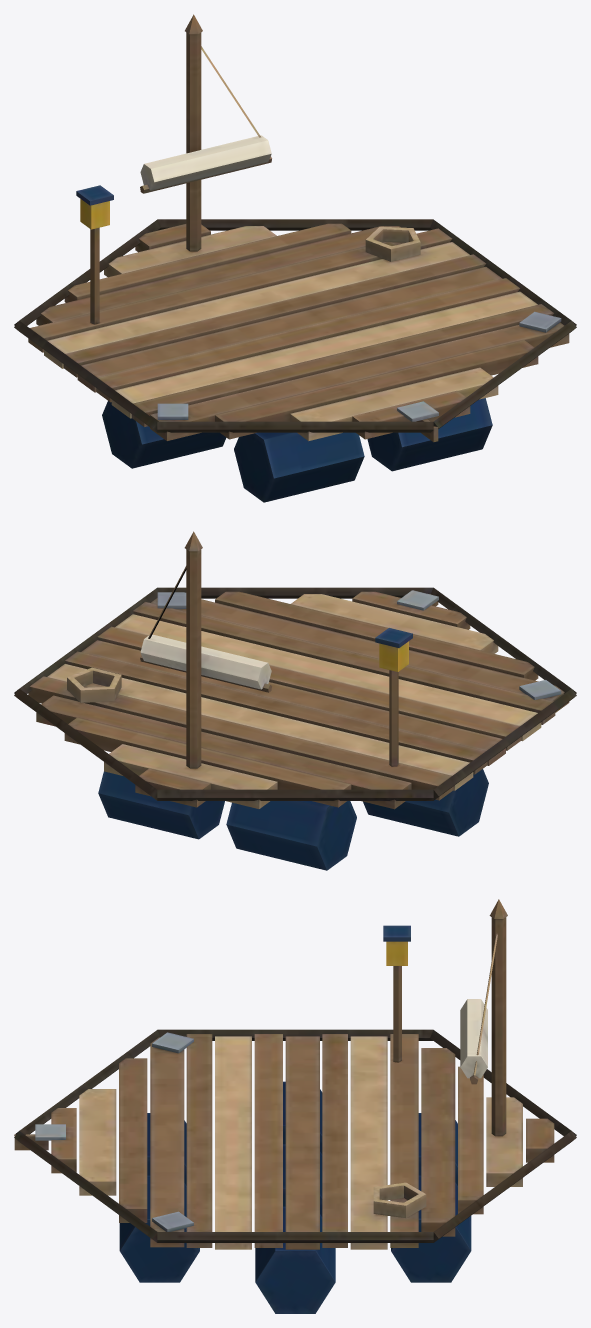
Rendered from raft-a-age10-lite.glb.
The picture shows the model from 3 angles, top to bottom: view 1: azimuth 30°, elevation 25°; view 2: azimuth 150°, elevation 25°; view 3: azimuth 270°, elevation 25°; orthographic projection.
Visible parts, largest first — view 1: raft-a-age10-lite; view 2: raft-a-age10-lite; view 3: raft-a-age10-lite.
Part boxes in pixels (x1,y1,x2,y2): raft-a-age10-lite: (14,14,576,502); raft-a-age10-lite: (14,531,576,870); raft-a-age10-lite: (14,899,576,1313).
Bounding box in the file's own units: 1.59 × 1.18 × 1.83.
1 material, 1 textured.
